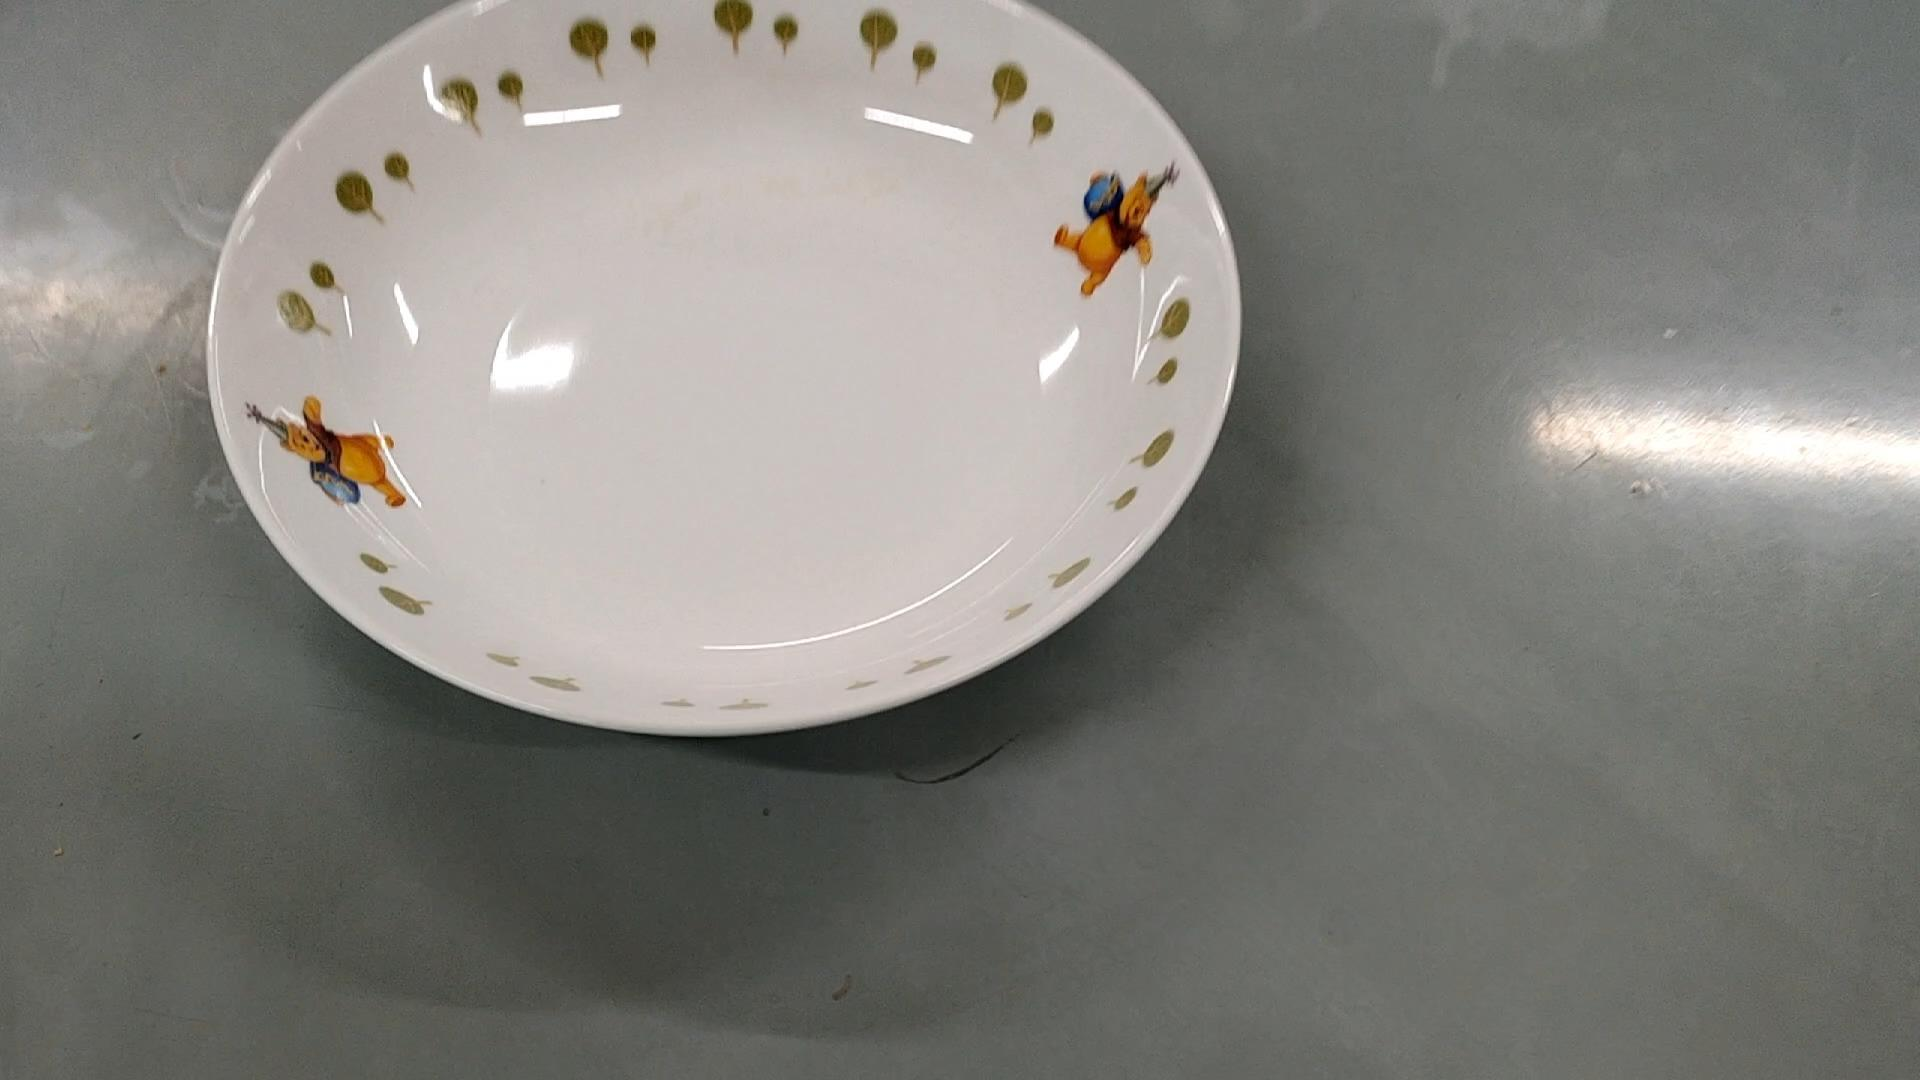plate: (203, 0, 1237, 738)
